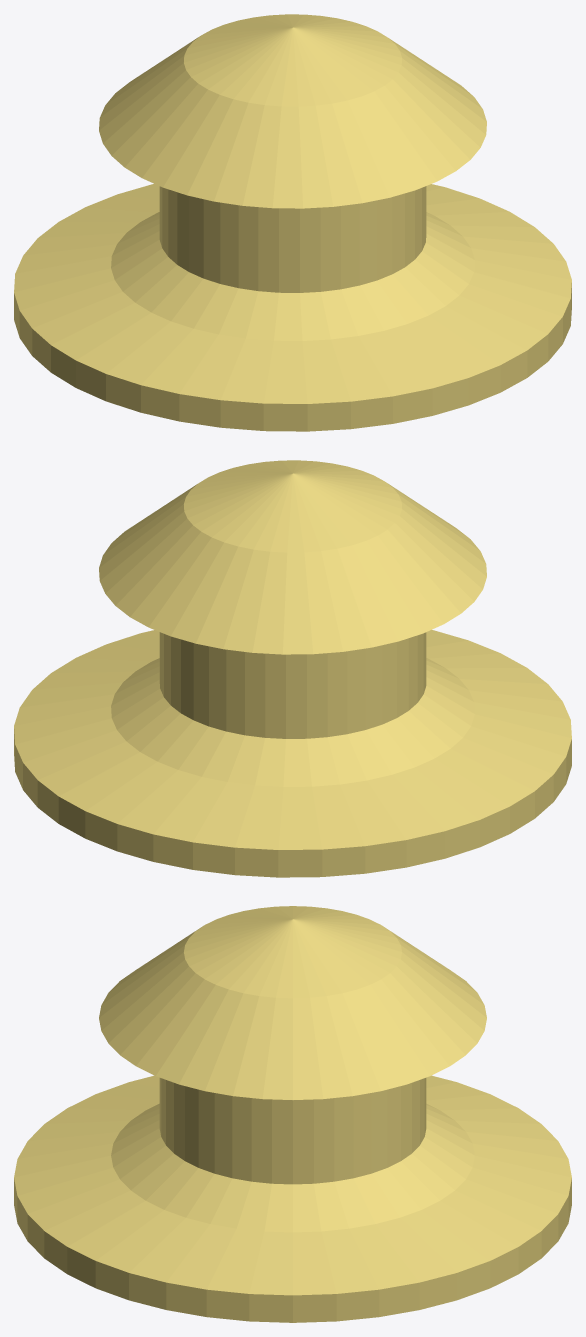
The model's file is wheel_hub.glb.
The picture shows the model from 3 angles, top to bottom: view 1: azimuth 30°, elevation 25°; view 2: azimuth 150°, elevation 25°; view 3: azimuth 270°, elevation 25°; orthographic projection.
Visible parts, largest first — view 1: WheelHub; view 2: WheelHub; view 3: WheelHub.
Boxes of the visible parts, x1=… form: WheelHub: x1=14, y1=14, x2=571, y2=431; WheelHub: x1=14, y1=460, x2=571, y2=877; WheelHub: x1=14, y1=906, x2=571, y2=1322.
Size of the model in its own units: 0.92 by 0.52 by 0.92.
